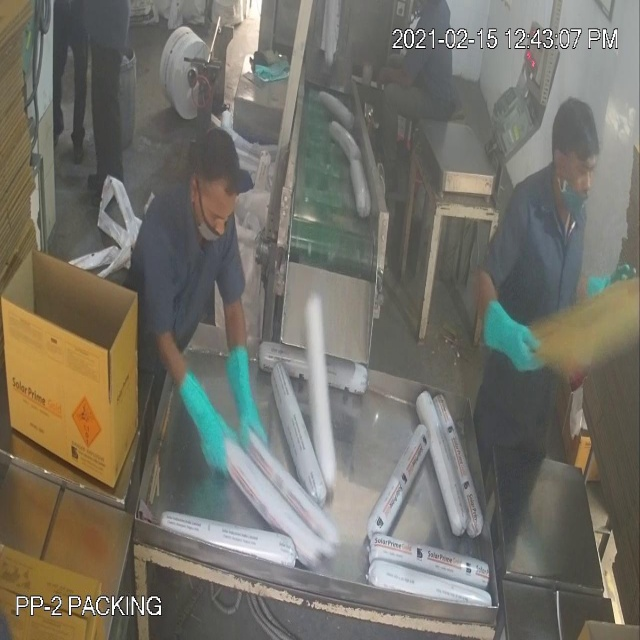Guantes: (169, 332, 232, 483), (484, 287, 546, 391), (221, 327, 270, 453)
Sin_guantes: (370, 58, 423, 104)
